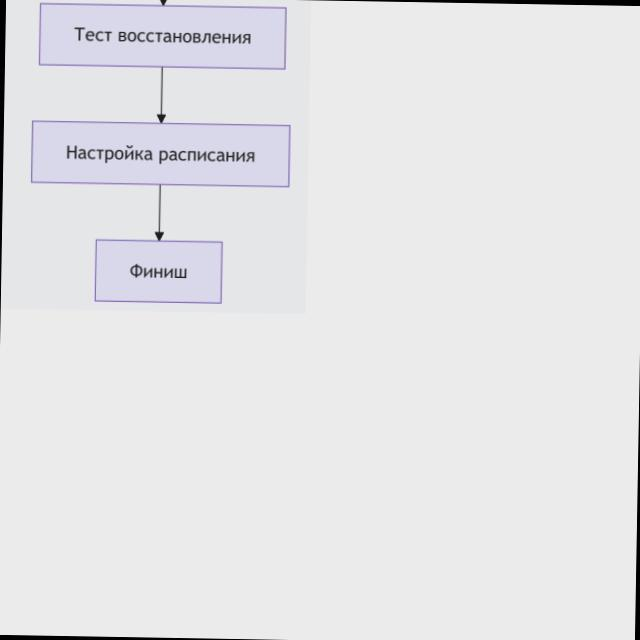arrow: (156, 186, 163, 241), (158, 68, 165, 123)
rectangle: (32, 121, 290, 187), (39, 4, 286, 69), (95, 241, 222, 303)
